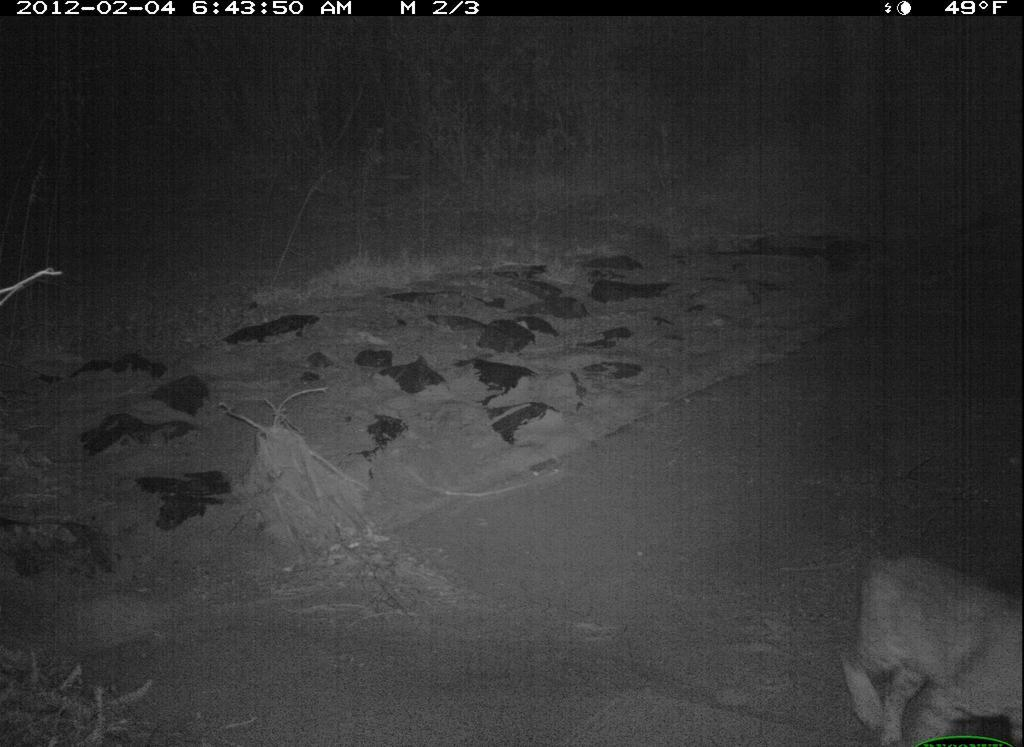bobcat: (826, 527, 1021, 747)
